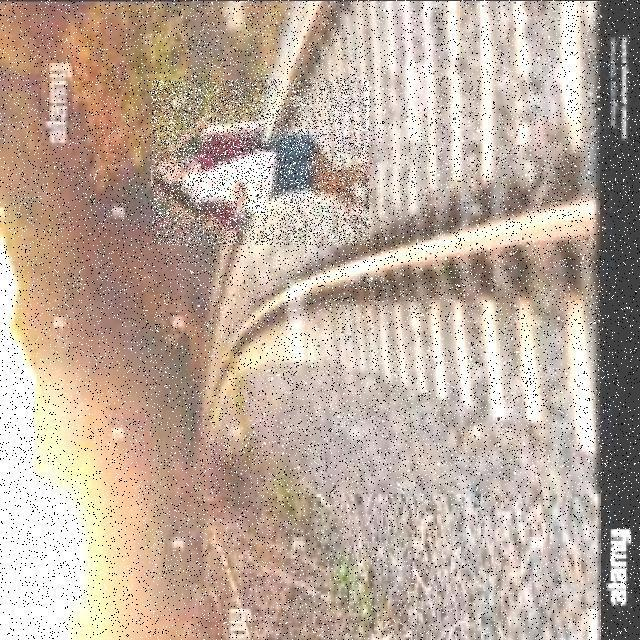danger: (152, 80, 370, 245)
rail: (191, 2, 604, 490)
